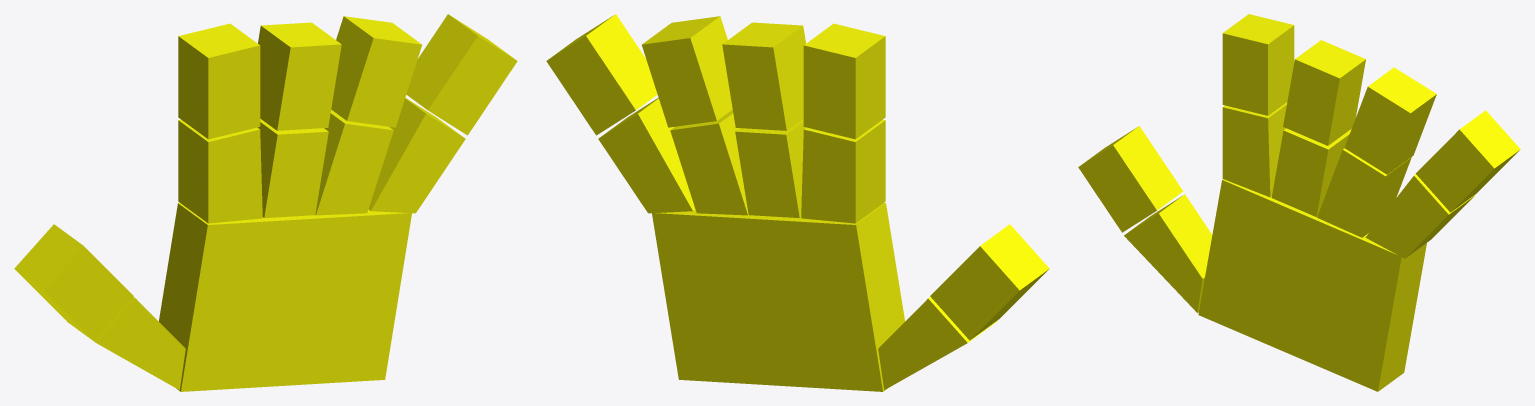
The model's file is paper.fbx.
The picture shows the model from 3 angles, left to right: view 1: azimuth 30°, elevation 25°; view 2: azimuth 150°, elevation 25°; view 3: azimuth 330°, elevation 25°; orthographic projection. The views are drawn at different scales.
Parts seen in each view (by area): view 1: 큐브.010; view 2: 큐브.010; view 3: 큐브.010.
Part boxes in pixels (x1,y1,x2,y2): 큐브.010: (14,14,517,391); 큐브.010: (546,14,1049,391); 큐브.010: (1078,14,1520,391).
Bounding box in the file's own units: 1826 × 1345 × 200.
